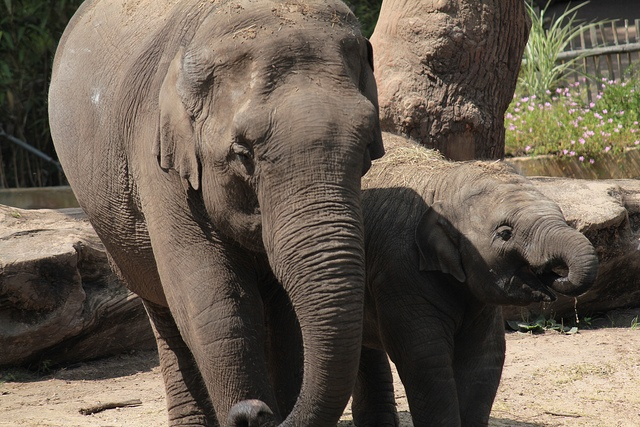elephant: (47, 2, 385, 425), (353, 127, 601, 427)
